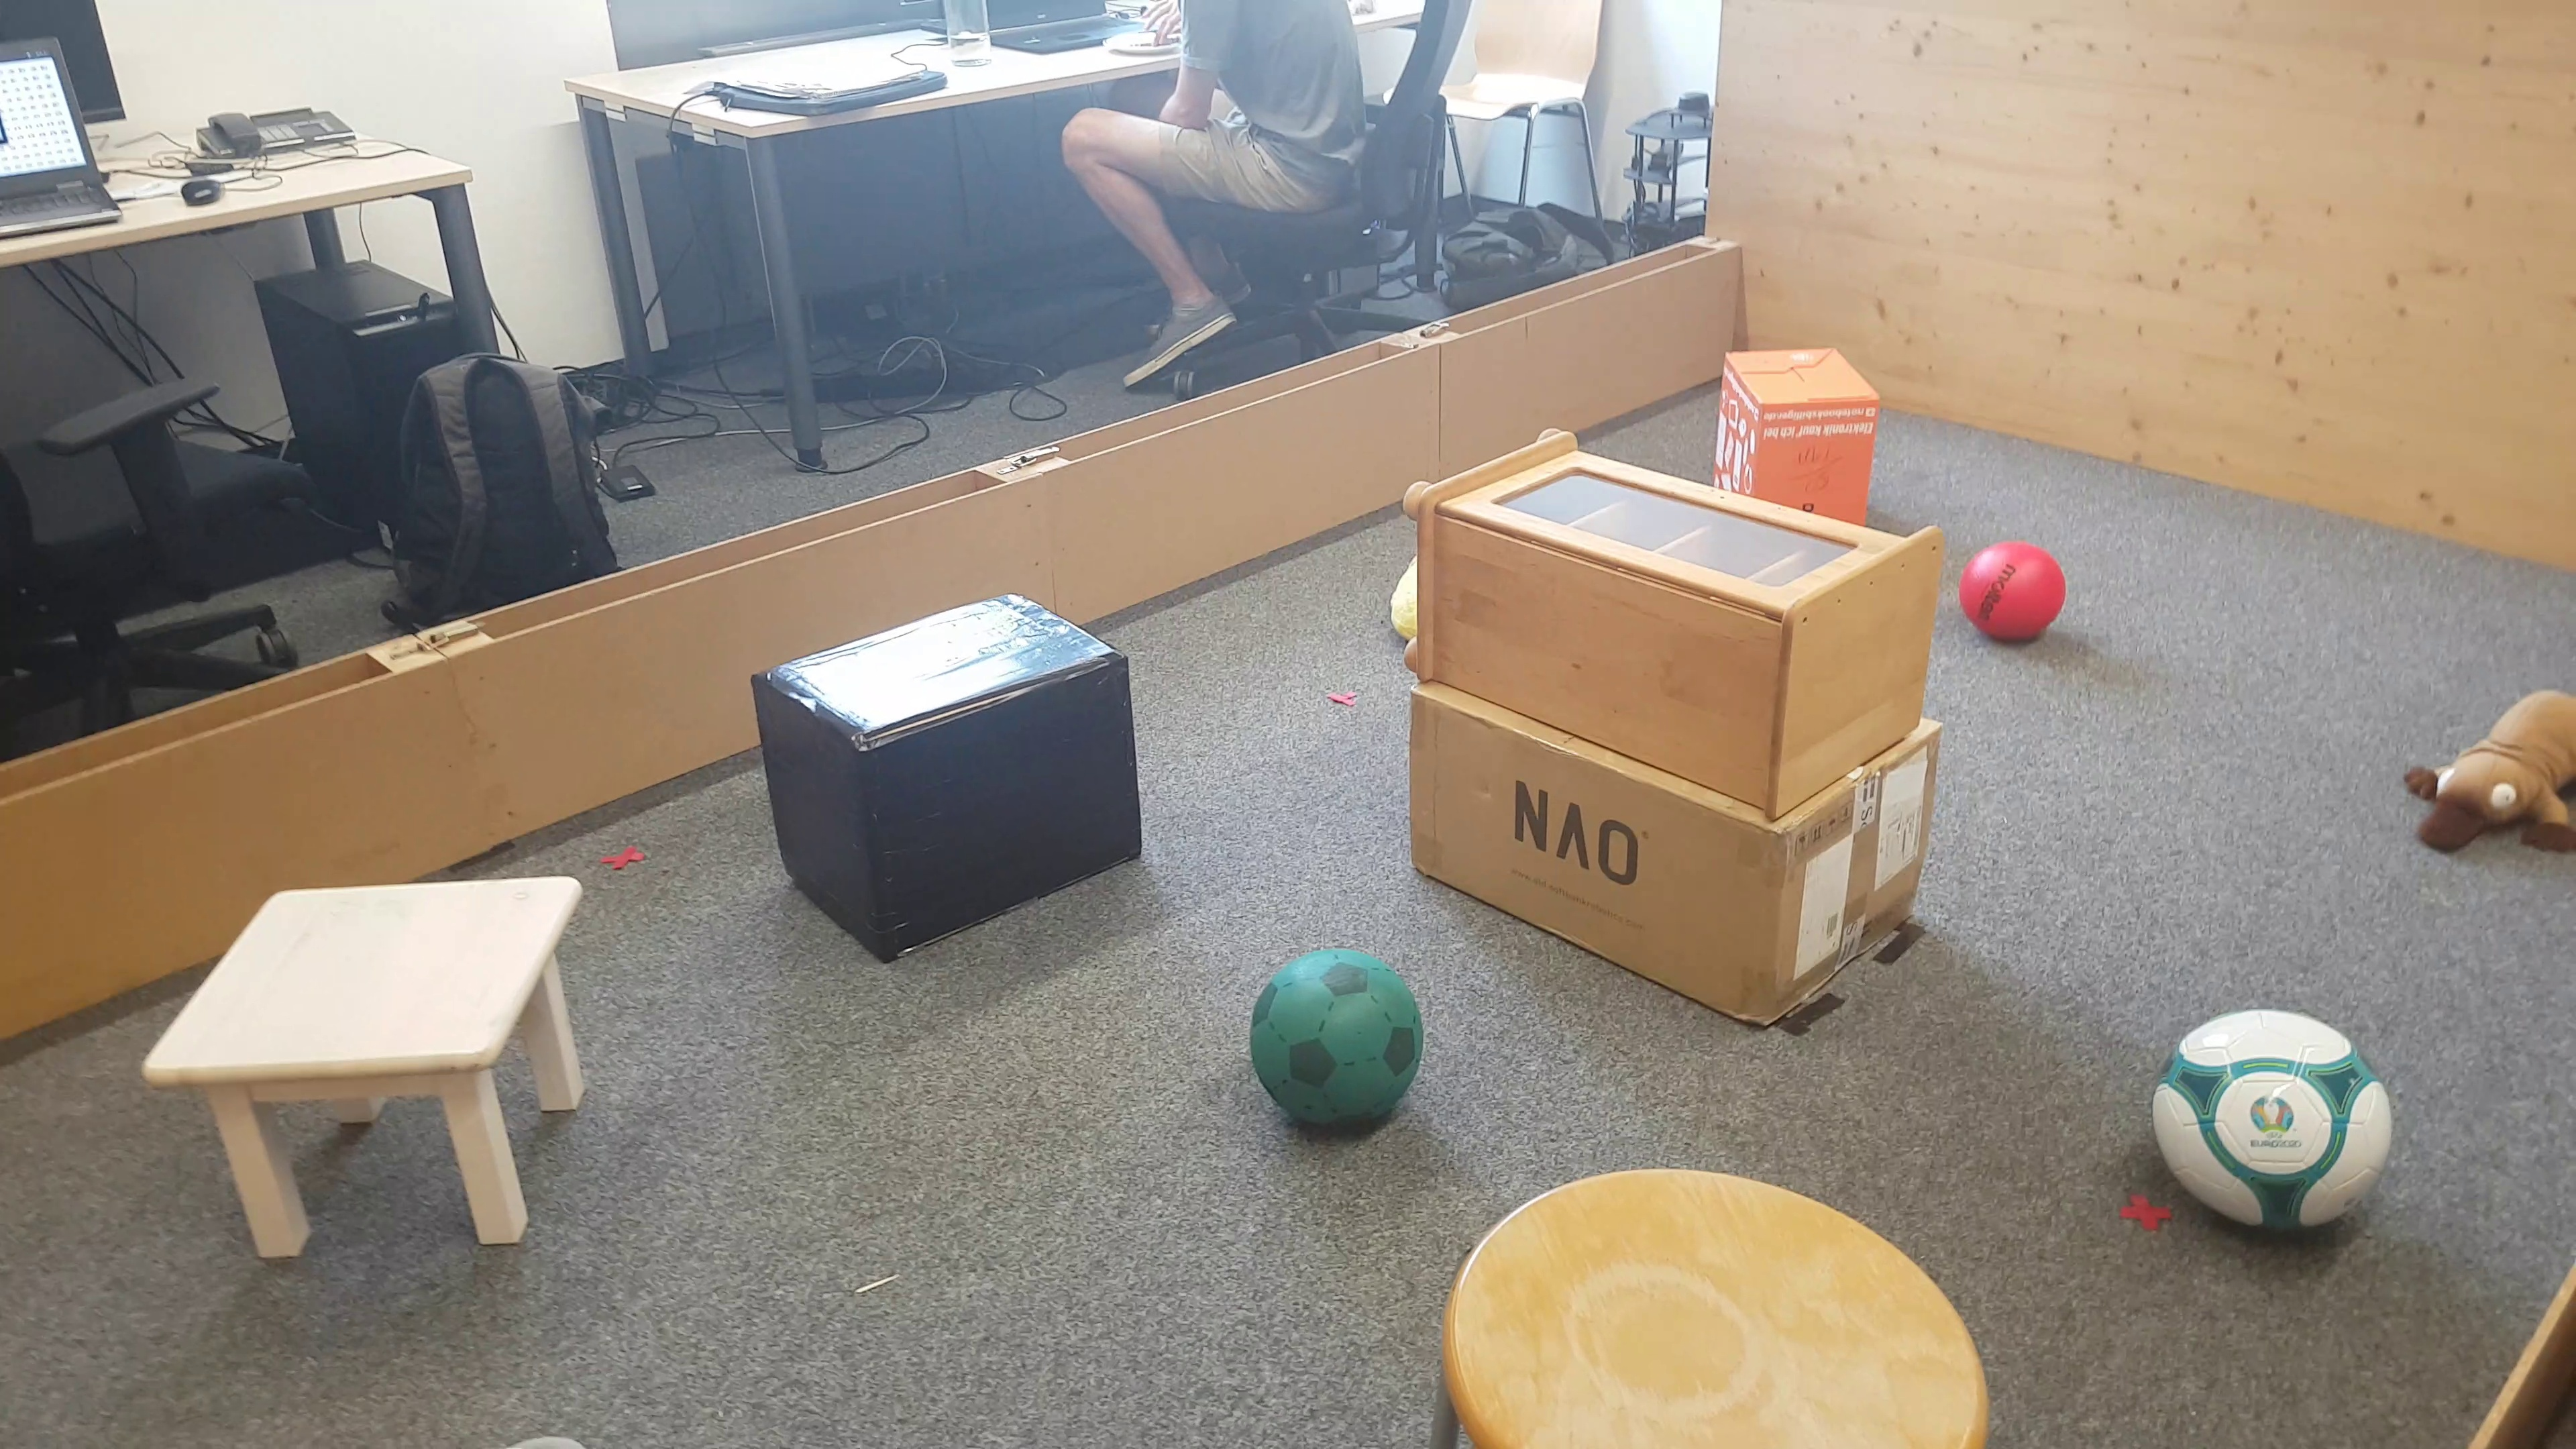grasp: (2401, 686, 2576, 862)
kick: (2150, 1012, 2390, 1249), (1256, 950, 1428, 1145), (1955, 538, 2066, 651)
push: (757, 594, 1143, 954), (1720, 345, 1884, 501)
